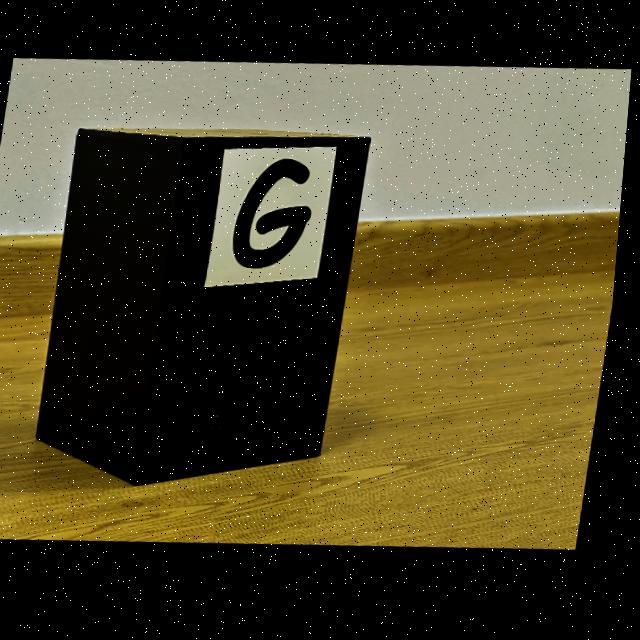G: (237, 161, 314, 271)
